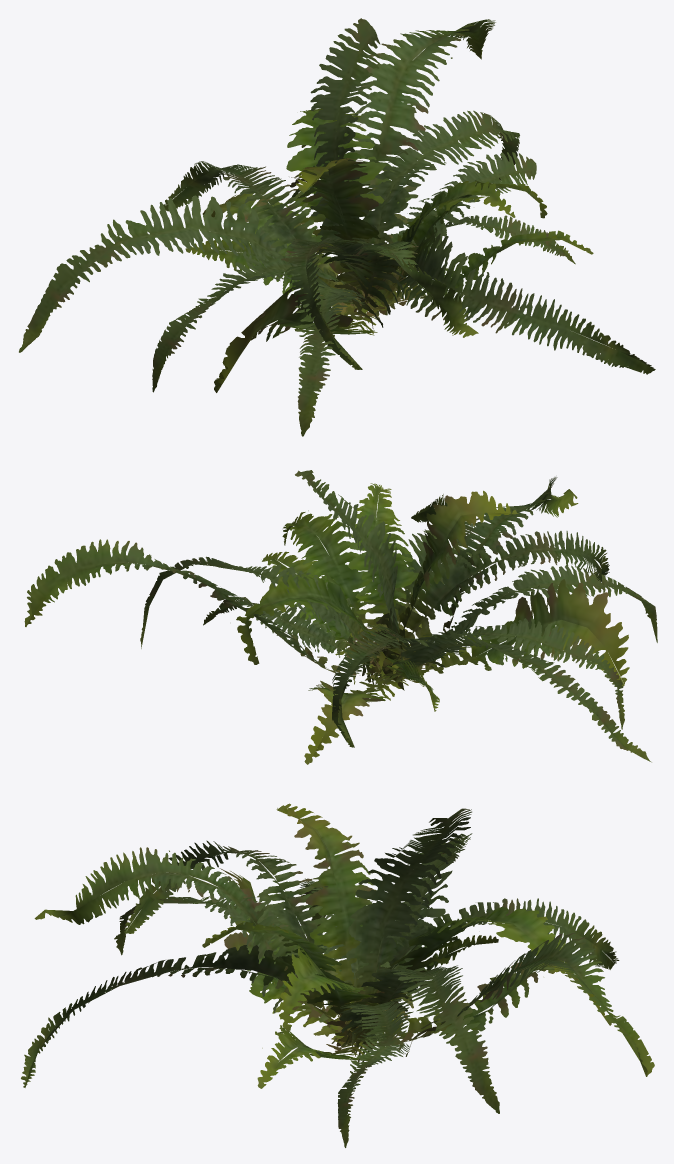
File: fern-CcvpkBzW.glb
3 views of the same model, one above another, from view 1: azimuth 30°, elevation 25°; view 2: azimuth 150°, elevation 25°; view 3: azimuth 270°, elevation 25° (orthographic). The views are drawn at different scales.
Parts seen in each view (by area): view 1: fern; view 2: fern; view 3: fern.
Boxes of the visible parts, x1,y1,x2,y2 form: fern: (19,18,655,436); fern: (24,470,657,764); fern: (21,803,654,1147).
Bounding box in the file's own units: 0.9903 × 0.4292 × 0.895.
Materials: 1 (1 with a texture image).
